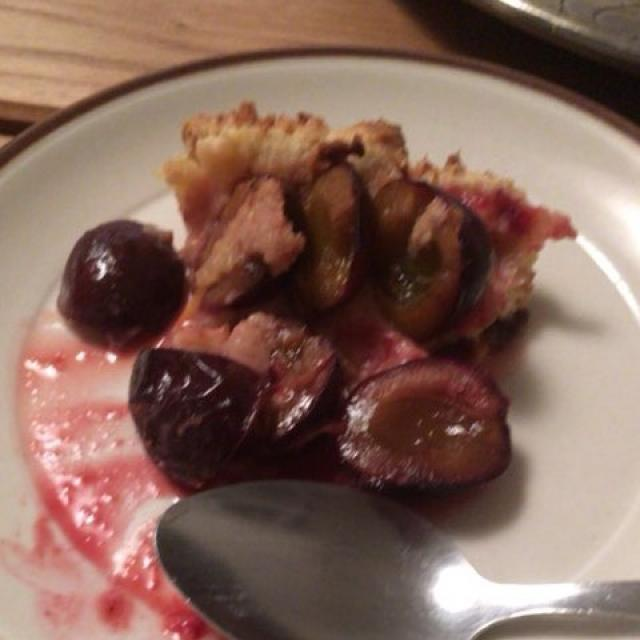pie: (82, 117, 548, 517), (62, 125, 544, 501)
